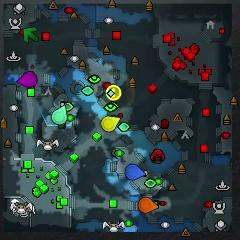Other: (106, 84, 122, 101)
p1: (125, 164, 145, 180)
p2: (52, 105, 68, 124)
p3: (18, 71, 38, 87)
p4: (101, 116, 120, 132)
p5: (138, 198, 158, 213)
x4: (23, 27, 39, 43)
